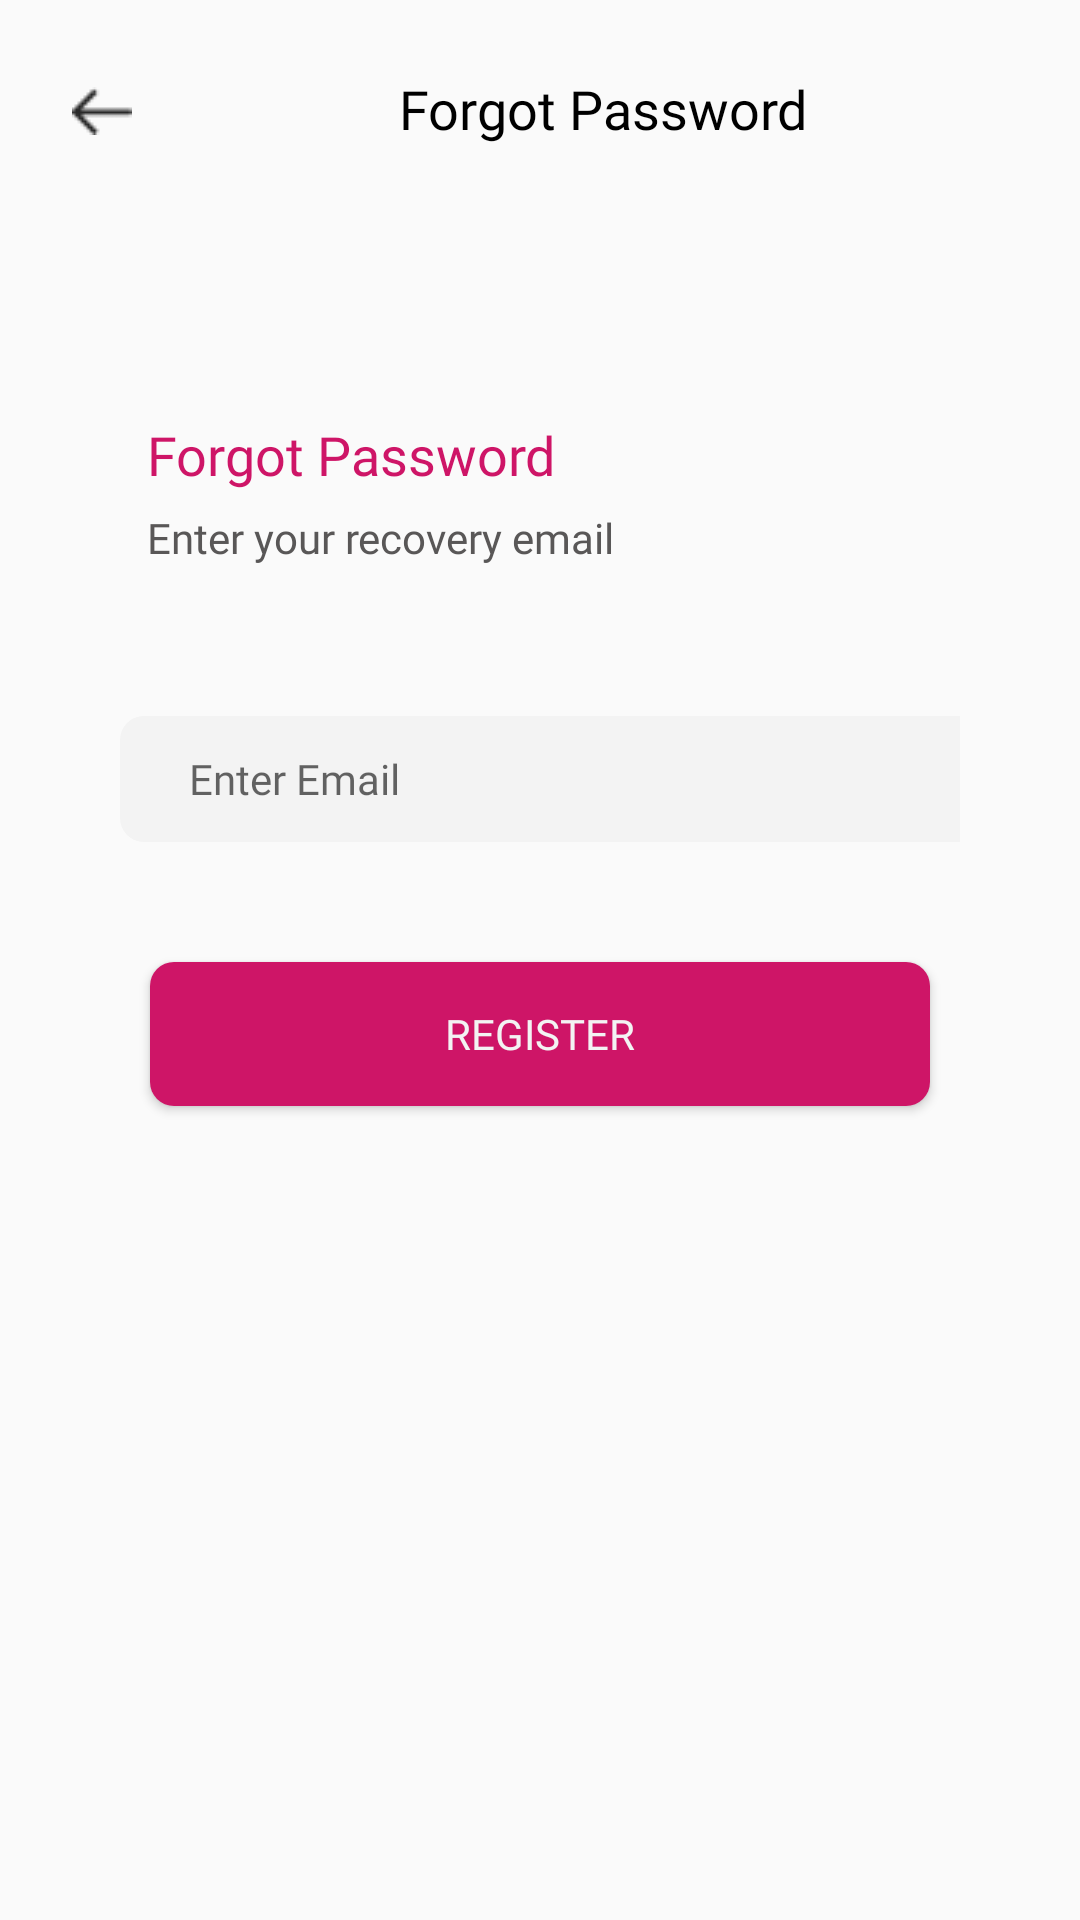

Named icons in this screenshot (1080px x 1920px) and their centers, (x=x, y=y):
back: (x=102, y=112)
